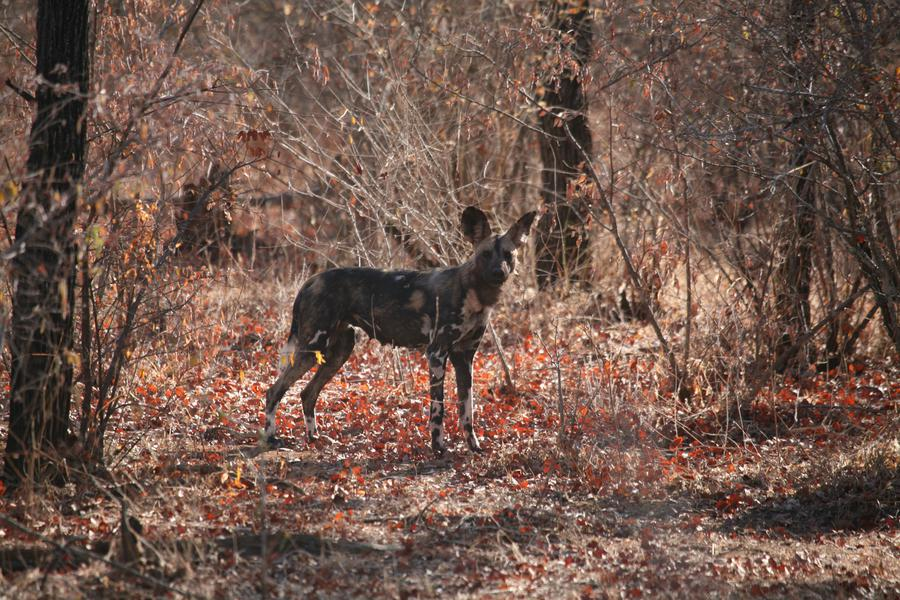wilddog: (282, 213, 530, 429)
